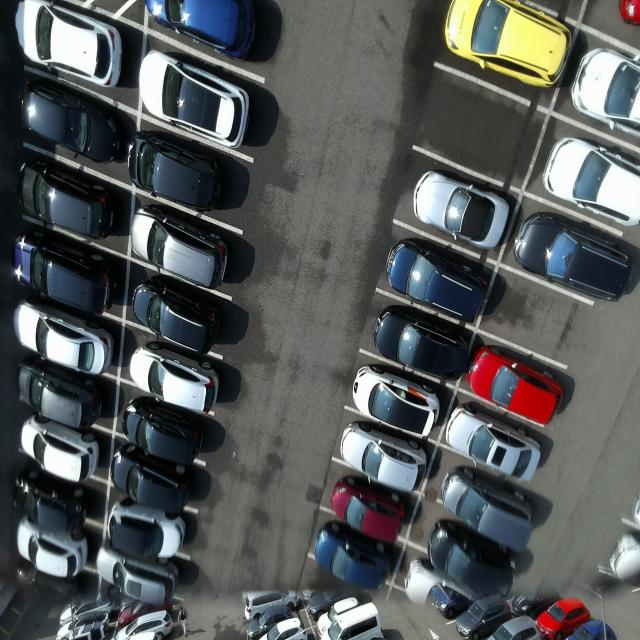car: (138, 45, 255, 153), (439, 1, 575, 86), (518, 207, 634, 306), (410, 155, 516, 259), (15, 1, 125, 98), (14, 151, 121, 246), (385, 234, 489, 324), (13, 228, 118, 315), (547, 136, 640, 232), (130, 204, 235, 289), (18, 81, 124, 165), (441, 462, 534, 557), (124, 128, 225, 215), (16, 293, 116, 380), (450, 404, 550, 489), (374, 303, 468, 388), (130, 276, 224, 358), (131, 338, 223, 418), (468, 348, 562, 426), (433, 520, 518, 600), (351, 366, 443, 438), (343, 419, 429, 494), (18, 362, 107, 432), (123, 394, 207, 467), (113, 444, 193, 517), (329, 472, 407, 543), (22, 412, 103, 480), (316, 518, 390, 591), (109, 496, 189, 563), (16, 471, 98, 532), (13, 515, 91, 576)
free_space: (412, 60, 553, 199), (475, 259, 604, 375)
